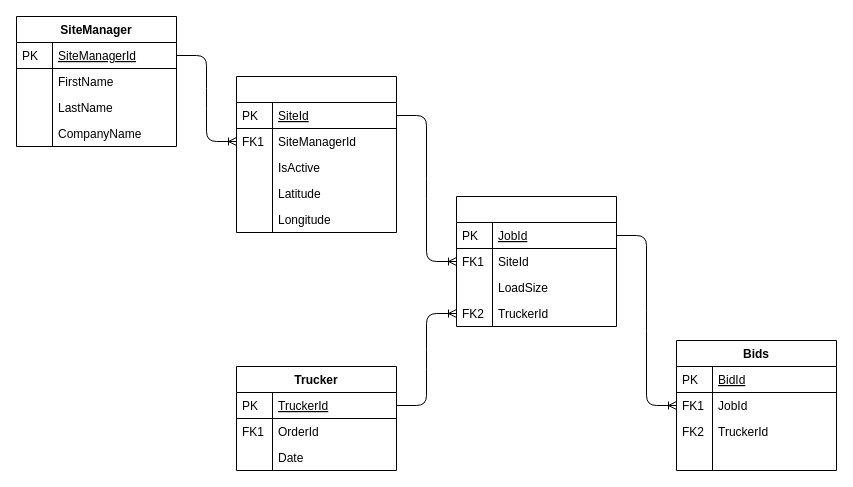
This 853x487 diagram has some shape labels left out. The box of each missing label's shape, as (x1, y1, x2, y2) in pixels:
Jobs: (456, 196, 616, 326)
Sites: (236, 76, 396, 232)
